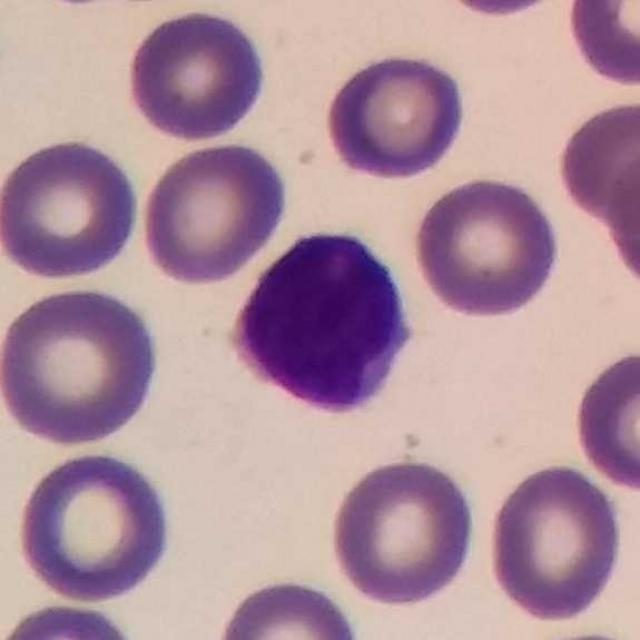Lymphocyte: (217, 217, 426, 425)
RBC: (0, 282, 166, 449), (10, 445, 179, 607), (482, 458, 628, 626), (326, 454, 482, 609), (409, 171, 563, 322), (137, 138, 293, 287), (0, 132, 145, 284), (124, 5, 270, 144), (322, 48, 471, 184), (553, 94, 640, 228), (569, 344, 640, 495), (209, 572, 365, 640), (561, 0, 640, 91), (601, 134, 640, 302), (0, 598, 150, 639), (450, 0, 565, 22)
